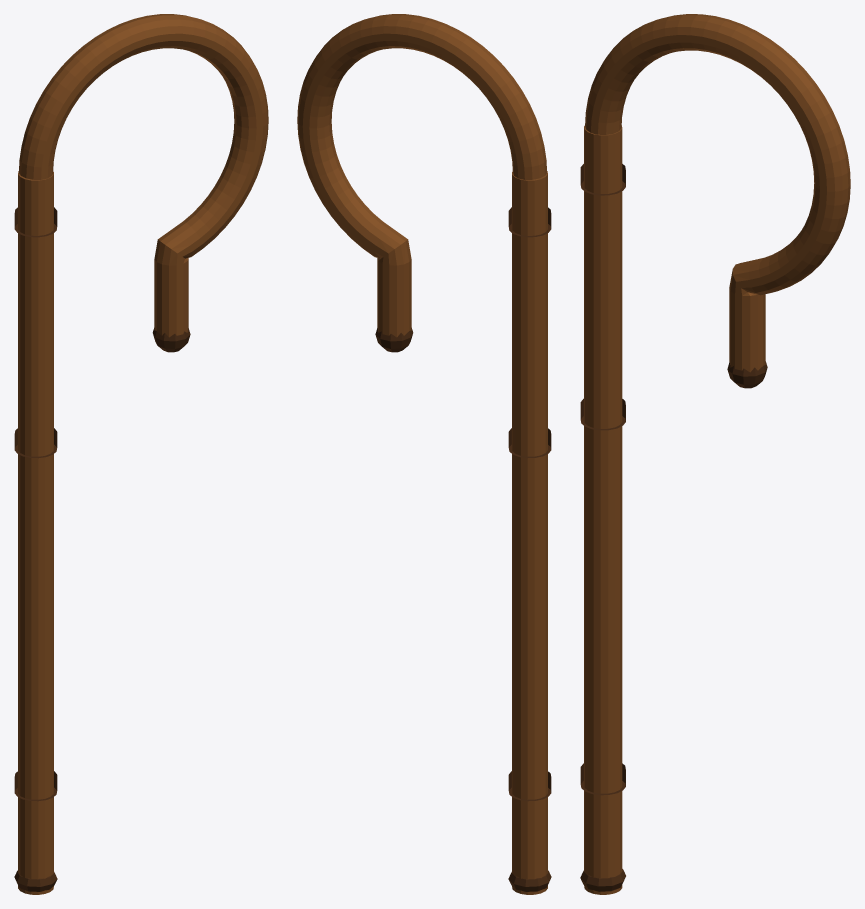
The model's file is shepherd_staff_usual_hook.obj.
3 renders of one model, left to right at view 1: azimuth 30°, elevation 25°; view 2: azimuth 150°, elevation 25°; view 3: azimuth 330°, elevation 25°, orthographic. The views are drawn at different scales.
Parts seen in each view (by area): view 1: staff_straight_shaft, staff_usual_shepherd_crook_hook, staff_hook_tip_round, staff_bottom_cap; view 2: staff_straight_shaft, staff_usual_shepherd_crook_hook, staff_hook_tip_round, staff_bottom_cap; view 3: staff_straight_shaft, staff_usual_shepherd_crook_hook, staff_hook_tip_round, staff_bottom_cap.
Boxes of the visible parts, box(x1,y1,x2,y2) form: staff_straight_shaft: box(18, 171, 53, 894); staff_usual_shepherd_crook_hook: box(18, 14, 268, 337); staff_hook_tip_round: box(152, 327, 190, 352); staff_bottom_cap: box(14, 870, 57, 891); staff_straight_shaft: box(512, 171, 547, 894); staff_usual_shepherd_crook_hook: box(297, 14, 547, 337); staff_hook_tip_round: box(375, 327, 413, 352); staff_bottom_cap: box(508, 870, 551, 891); staff_straight_shaft: box(584, 125, 622, 894); staff_usual_shepherd_crook_hook: box(585, 14, 850, 372); staff_hook_tip_round: box(727, 361, 767, 388); staff_bottom_cap: box(580, 869, 625, 891).
Bounding box in the file's own units: 0.5552 × 1.8 × 0.0826.
